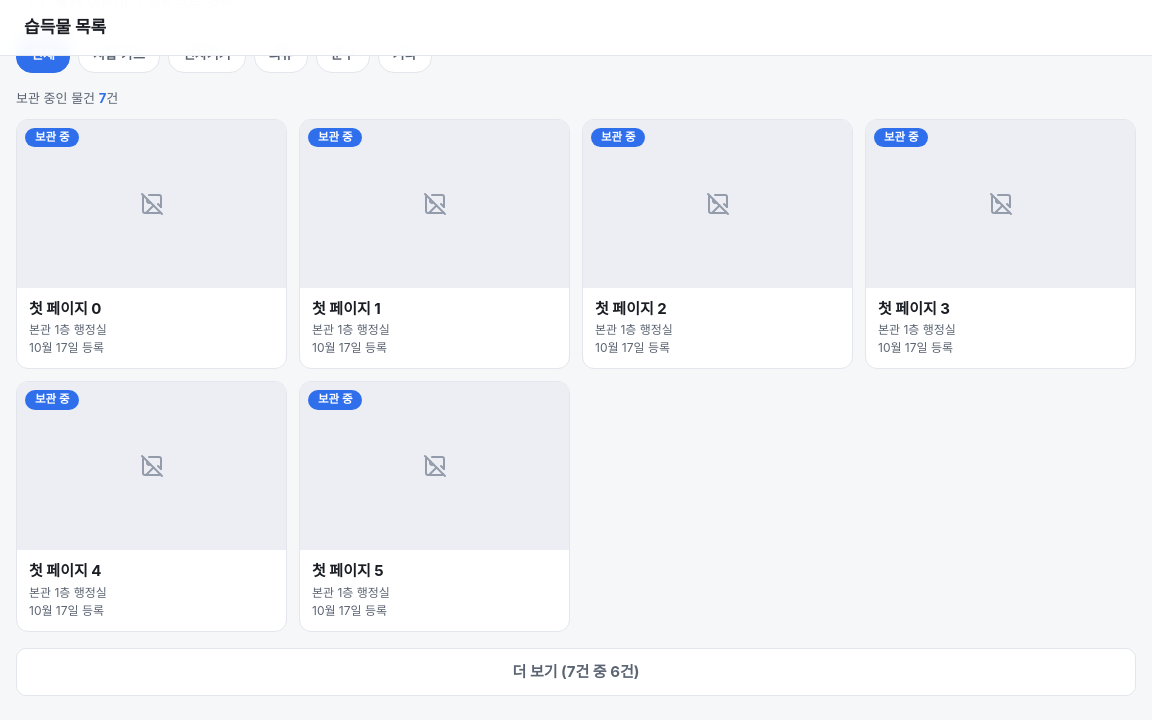
Scenario: FoundListPage › [더 보기]는 nextCursor 로 다음 6건을 이어 붙이고, 마지막이면 숨는다
(page scrolled)
Click the button "더 보기 (7건 중 6건)".
click(576, 672)  # box [16,648,1136,696]
(page scrolled)
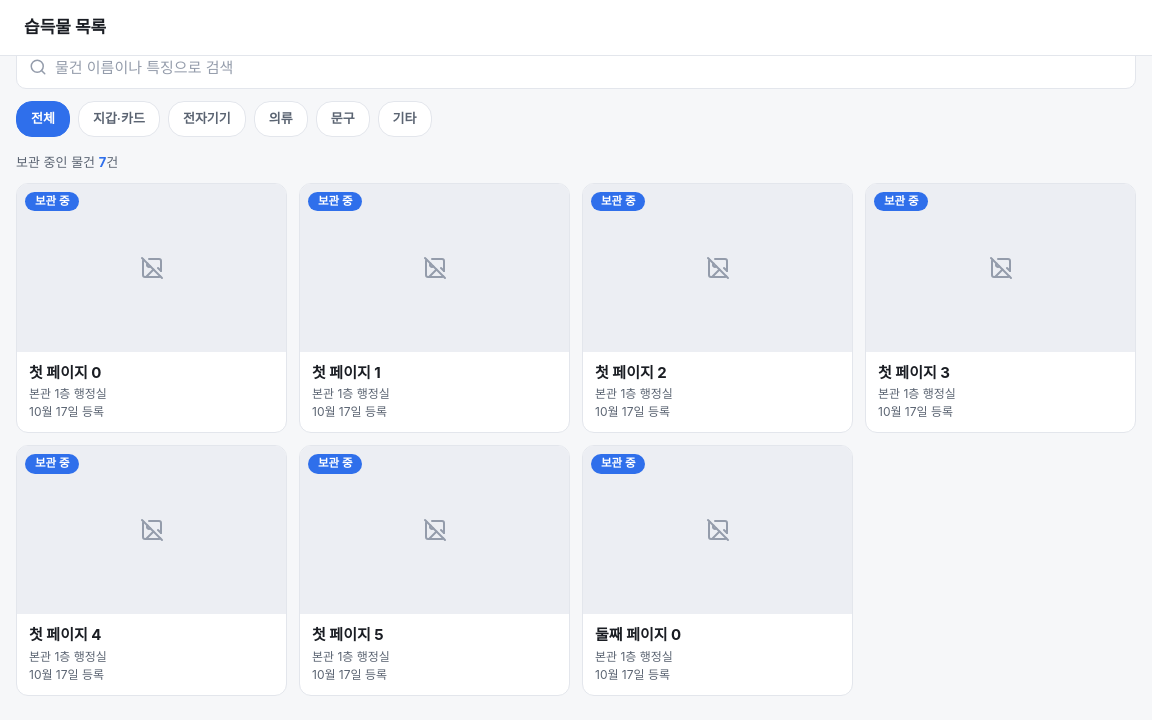
Result: the text "둘째 페이지 0" is shown at [595,625,681,644]
Result: the number of list items is 7
Result: the button "더 보기" is gone
